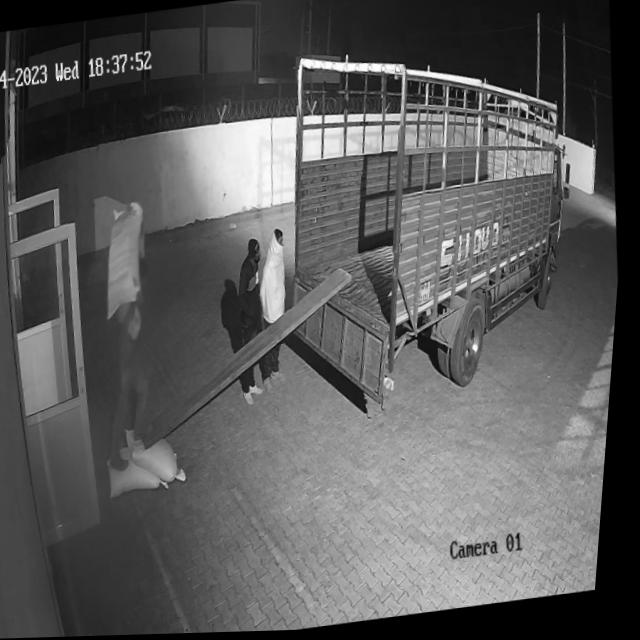sack: (100, 202, 156, 321), (128, 421, 197, 489), (111, 441, 176, 497)
